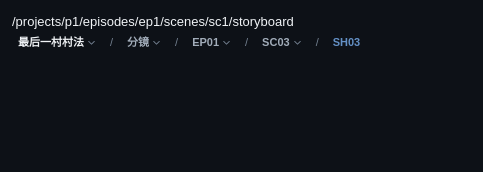
Test: content breadcrumb › switches scenes laterally and clears the stale shot selection
Hover over the link "SC03" at (282, 42), box [262,36,302,48]
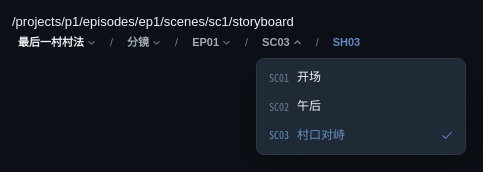
Click the menu item "SC01 开场" at (361, 78), box [261,63,461,92]
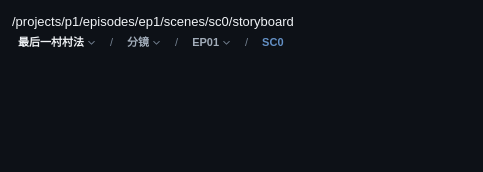
Expected: the text with test id "loc" reads "/projects/p1/episodes/ep1/scenes/sc0/storyboard", [12,14,294,29]
